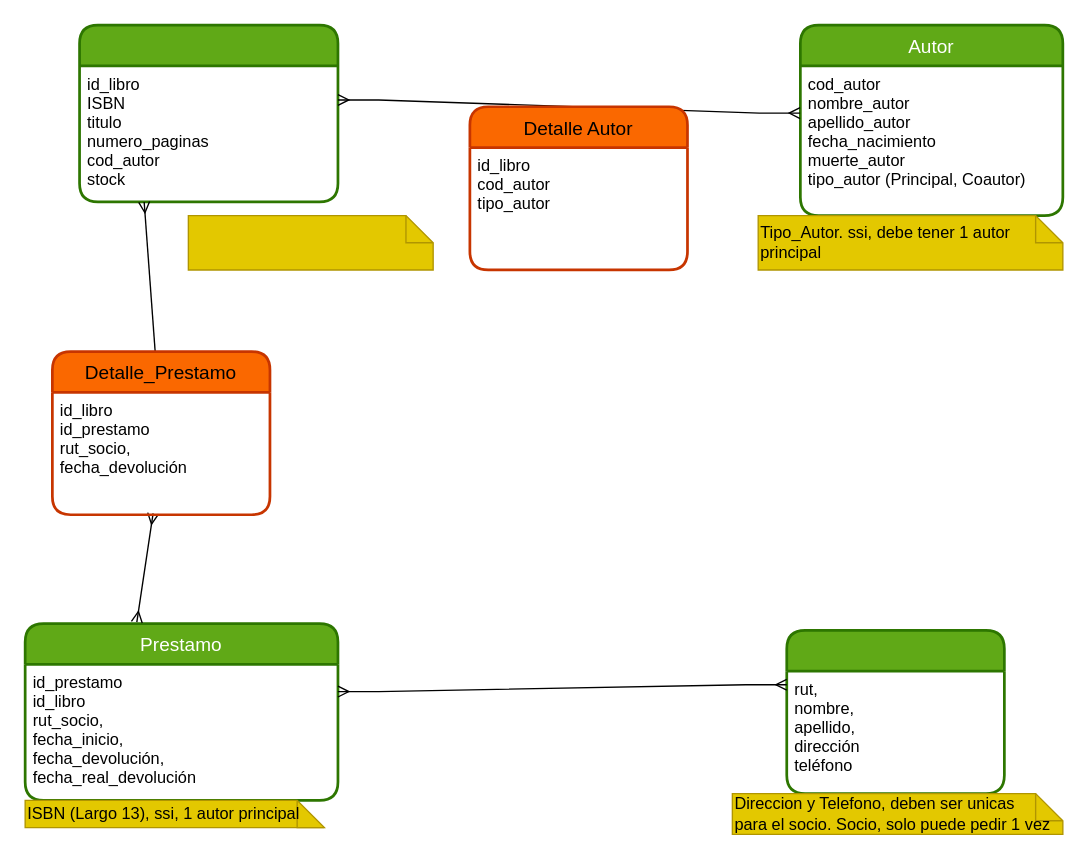
Image size: 1087x858. Some labels were removed from this diagram. The box of each missing label's shape, as (x1, y1, x2, y2) in pixels:
Datos del Libro: (78, 23, 339, 203)
ISBN (Largo 13) Cod_autor (serial): (187, 214, 433, 270)
Socio: (785, 628, 1005, 794)
